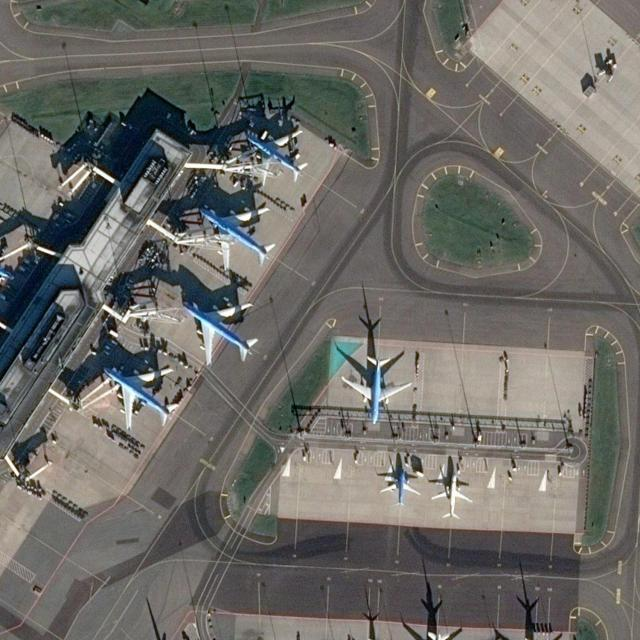Aircraft: (197, 204, 275, 272), (179, 298, 259, 364), (100, 363, 179, 429), (340, 353, 412, 424), (244, 127, 308, 184), (431, 471, 471, 520), (380, 465, 421, 507)
